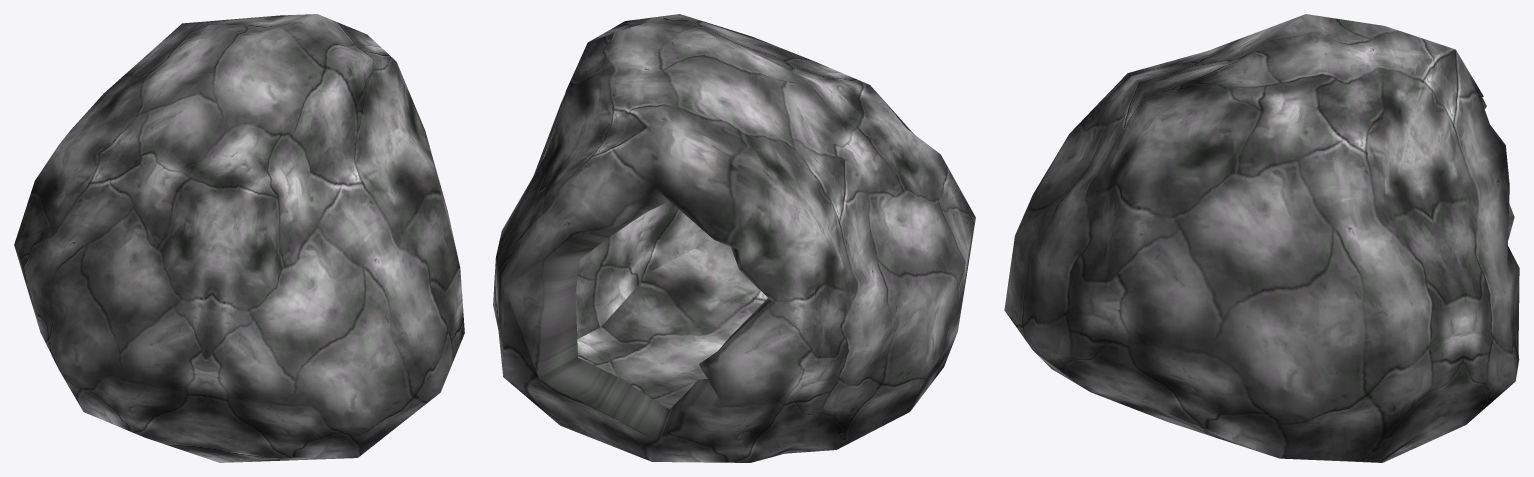
The model's file is INST_TROLLHOLE_BADGERHOUSE.fbx.
3 renders of one model, left to right at view 1: azimuth 30°, elevation 25°; view 2: azimuth 150°, elevation 25°; view 3: azimuth 270°, elevation 25°, orthographic. The views are drawn at different scales.
Parts seen in each view (by area): view 1: INST_TROLLHOLE_BADGERHOUSE; view 2: INST_TROLLHOLE_BADGERHOUSE; view 3: INST_TROLLHOLE_BADGERHOUSE.
Boxes of the visible parts, left/top/right/bottom form: INST_TROLLHOLE_BADGERHOUSE: left=14, top=14, right=464, bottom=462; INST_TROLLHOLE_BADGERHOUSE: left=493, top=14, right=975, bottom=462; INST_TROLLHOLE_BADGERHOUSE: left=1004, top=14, right=1519, bottom=462.
Bounding box in the file's own units: 12872 × 12179 × 13929.
Materials: 2 (2 with a texture image).
